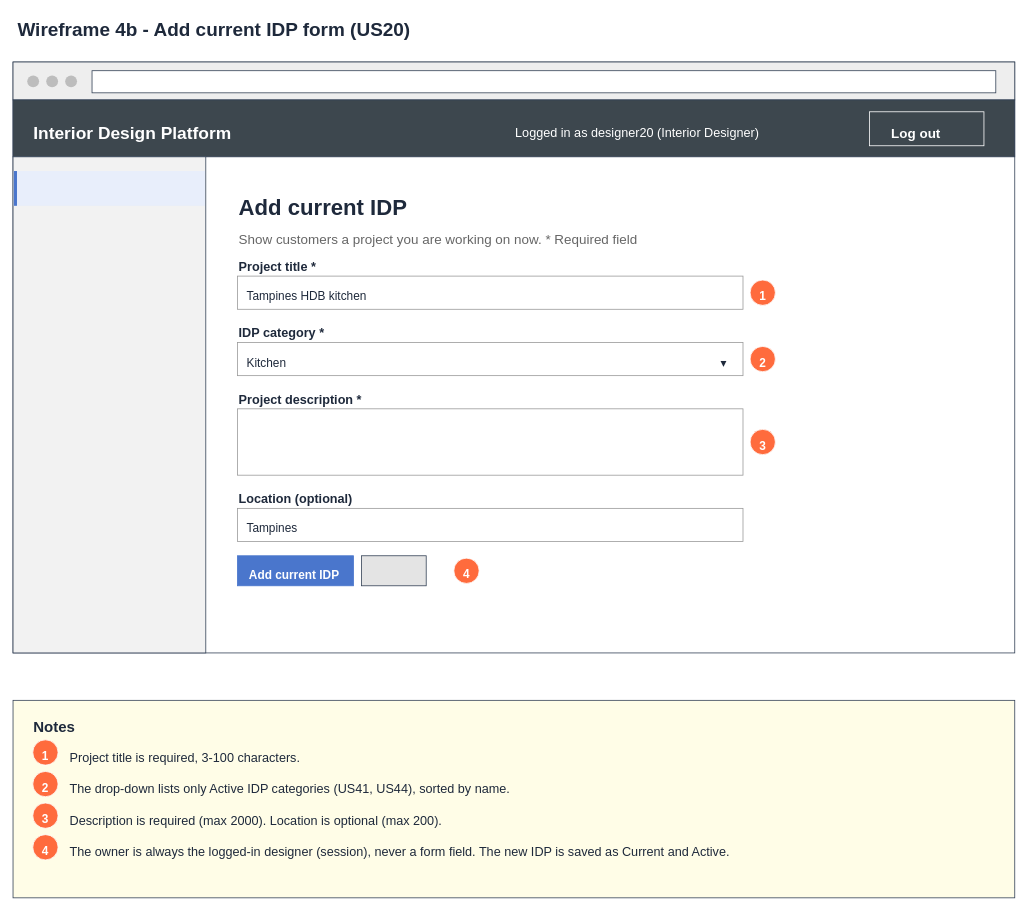
This 1028x911 diagram has some shape labels left out. Here are the shapes that lost their labels. From the top down, the box of each, then its label:
(91, 70, 996, 93): localhost:5000/designer/idps/add
(13, 171, 205, 205): Dashboard
(237, 408, 743, 475): Open-concept kitchen with island; now at the carpentry stage.
(361, 555, 426, 586): Cancel
